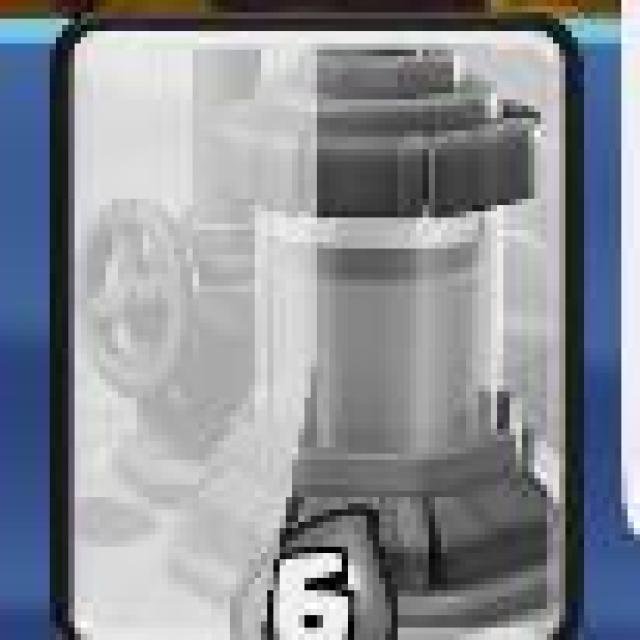Elixir_Pump: (56, 23, 578, 640)
